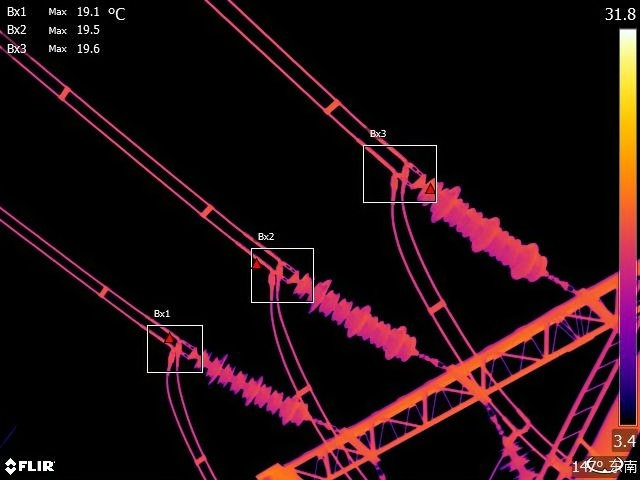clamp: (384, 153, 419, 196), (159, 334, 189, 366), (261, 259, 293, 289)
insulator: (410, 173, 550, 292), (292, 265, 420, 366), (197, 341, 317, 432)
